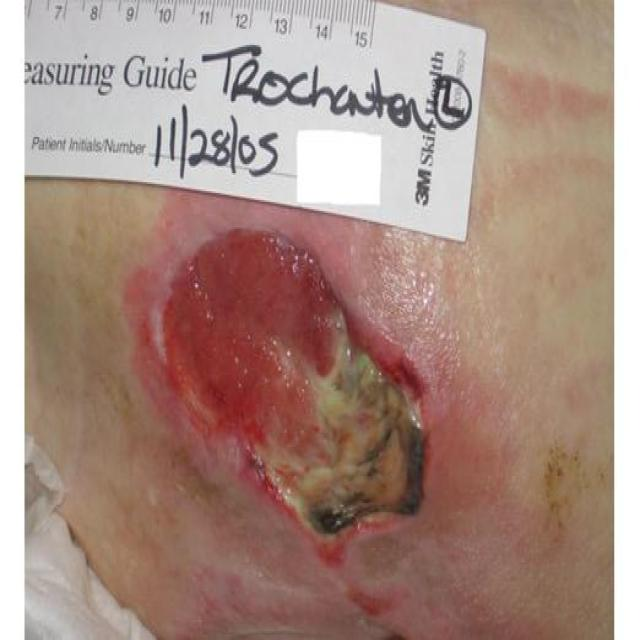Unstageable: (259, 306, 425, 539)
stage-3: (157, 232, 334, 447)
